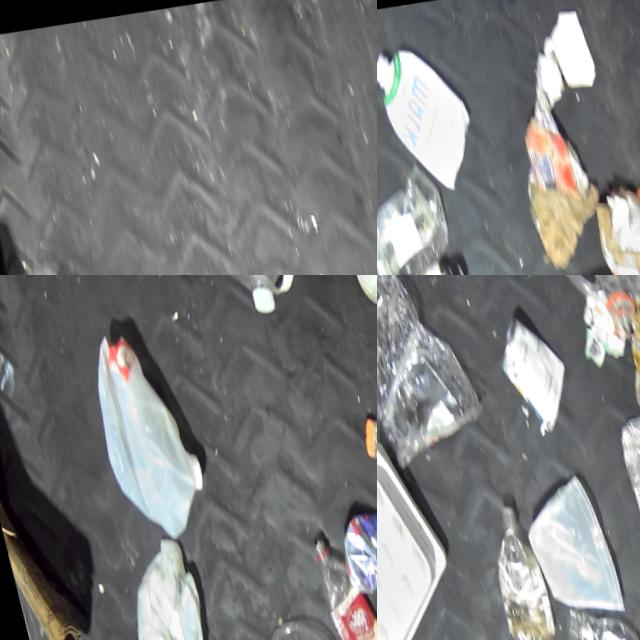can: (486, 304, 580, 438), (606, 404, 640, 543)
milk_jug: (73, 319, 215, 549), (106, 529, 219, 640)
non_white_jug: (534, 275, 640, 336)
plastic_bottle: (471, 491, 557, 640), (300, 520, 377, 640), (191, 275, 307, 319), (553, 592, 640, 640)
